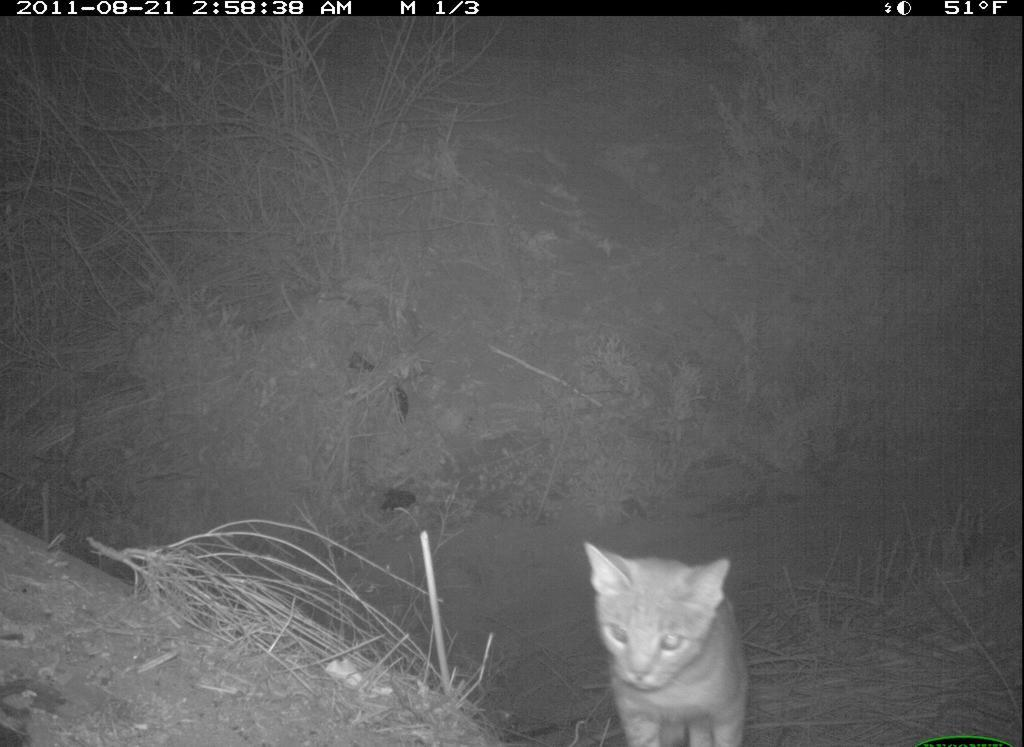cat: (569, 534, 756, 739)
